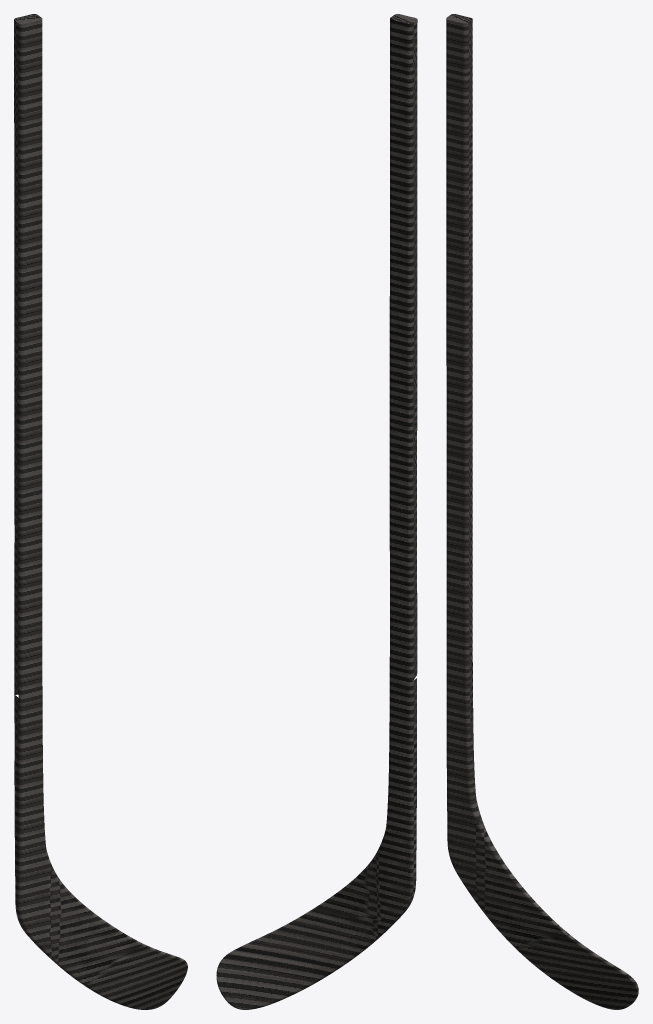
File: P29-1-4-ST-thin-head-LIE7_0.glb
3 renders of one model, left to right at view 1: azimuth 30°, elevation 25°; view 2: azimuth 150°, elevation 25°; view 3: azimuth 330°, elevation 25°, orthographic. The views are drawn at different scales.
Parts seen in each view (by area): view 1: geometry_0; view 2: geometry_0; view 3: geometry_0.
Boxes of the visible parts, <box> form: geometry_0: <box>14,14,187,1009</box>; geometry_0: <box>216,14,417,1009</box>; geometry_0: <box>446,14,638,1009</box>.
Size of the model in its own units: 239 by 1267 by 54.72.
Materials: 1 (1 with a texture image).
